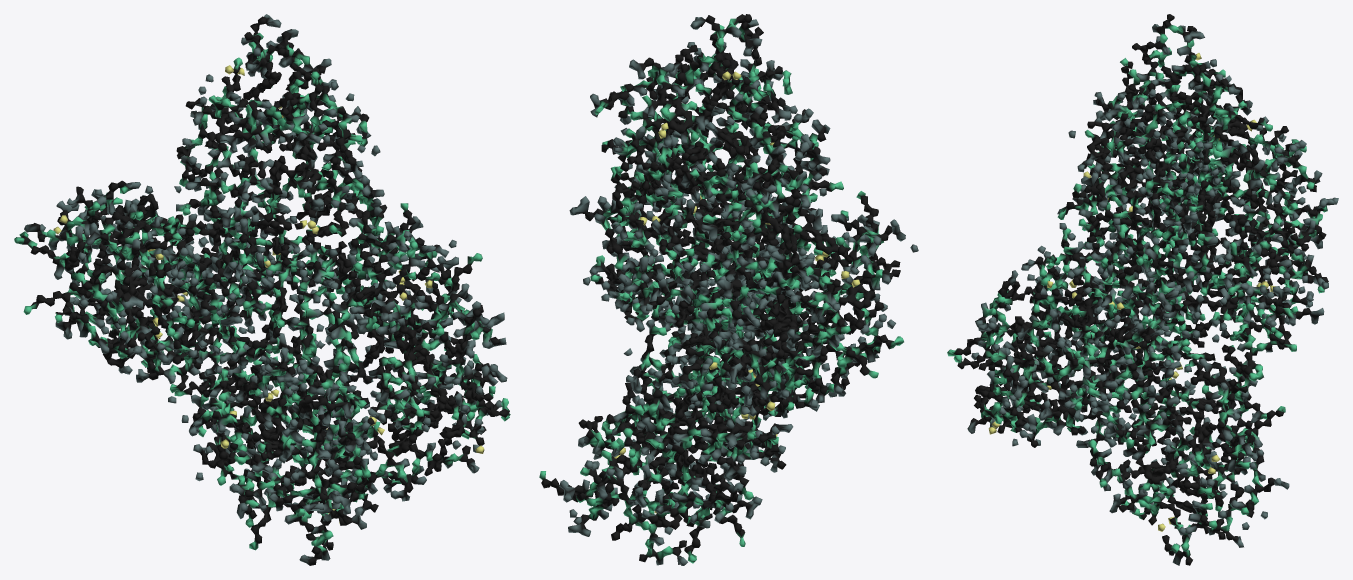
The model's file is atoms.low.glb.
The picture shows the model from 3 angles, left to right: view 1: azimuth 30°, elevation 25°; view 2: azimuth 150°, elevation 25°; view 3: azimuth 270°, elevation 25°; orthographic projection. The views are drawn at different scales.
Visible parts, largest first — view 1: geo1.004; view 2: geo1.004; view 3: geo1.004.
Boxes of the visible parts, x1,y1,x2,y2 form: geo1.004: [14, 14, 510, 565]; geo1.004: [539, 14, 918, 565]; geo1.004: [947, 14, 1338, 565].
Size of the model in its own units: 65.62 by 91.02 by 62.83.
